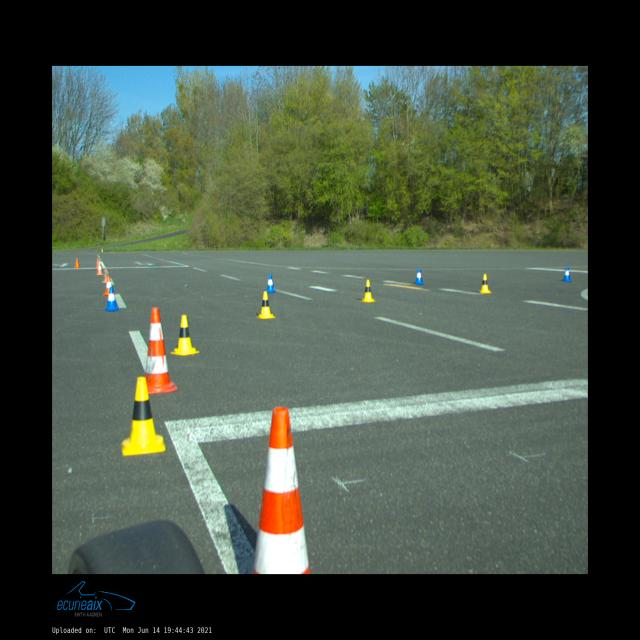blue_cone: (104, 287, 120, 312), (266, 274, 276, 293), (414, 268, 424, 285), (562, 266, 572, 282)
large_orange_cone: (253, 407, 310, 574), (145, 308, 178, 394)
orange_cone: (103, 276, 115, 296), (102, 268, 107, 283), (97, 263, 103, 275), (74, 258, 80, 268), (95, 258, 98, 269)
yellow_cone: (121, 377, 166, 456), (171, 315, 199, 356), (256, 291, 276, 319), (360, 280, 376, 302), (479, 274, 492, 294)
